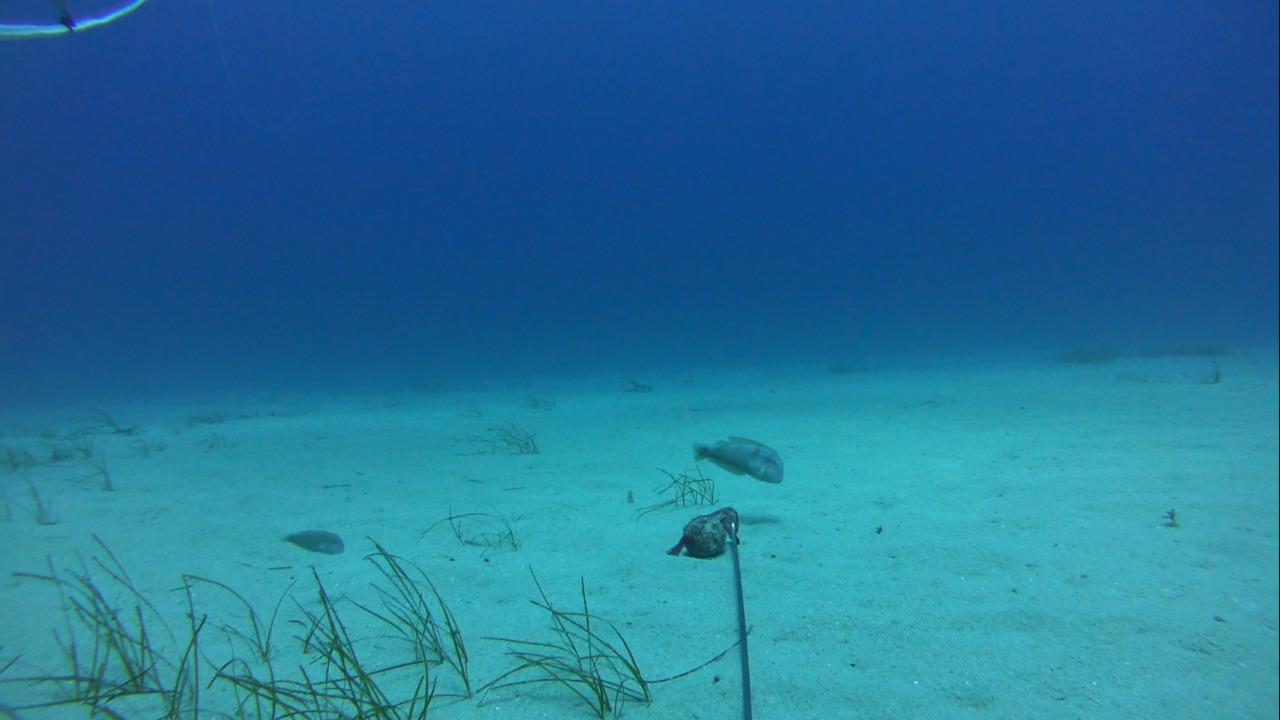raor: (688, 430, 788, 484), (276, 520, 347, 556)
